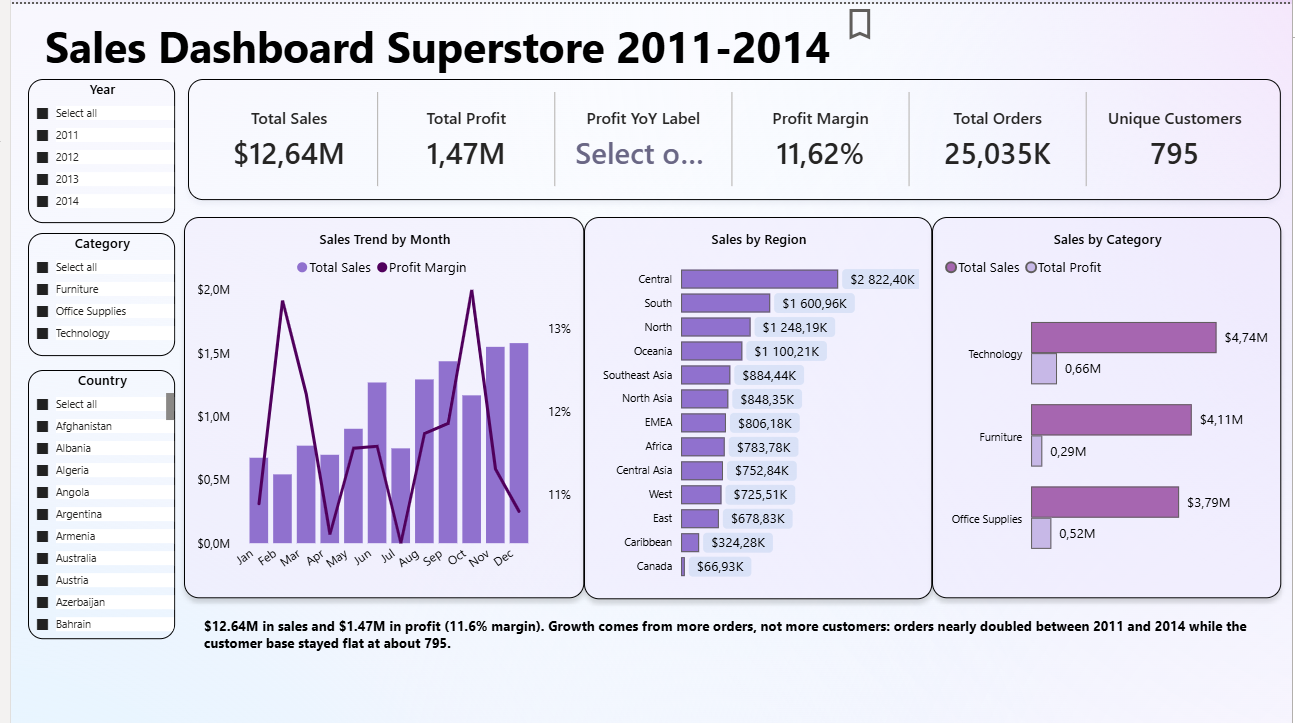

This screenshot's page, from the dashboard's own definition file:
{"tool":"powerbi","page":{"name":"KPI&Trend","canvas":[1280,720],"ordinal":0},"visuals":[{"type":"actionButton","box":[0,0,100,40],"z":0},{"type":"cardVisual","fields":{"Data":["SuperStoreOrders.Total Sales","SuperStoreOrders.Total Profit","SuperStoreOrders.Total Orders","SuperStoreOrders.Profit Margin"]},"box":[0,45.2,1079.6,117.9],"z":1000},{"type":"cardVisual","fields":{"Data":["SuperStoreOrders.Total Profit"]},"box":[606,167.3,192.6,105],"z":2000},{"type":"lineChart","title":"Monthly Sales Trend","fields":{"Y":["Sum(SuperStoreOrders.sales_number)"],"Category":["SuperStoreOrders.order_date.Варіація.Ієрархія дат.Місяць"]},"box":[4.9,163.4,1275.1,230.5],"z":4000},{"type":"slicer","title":"Country","fields":{"Values":["SuperStoreOrders.country"]},"box":[1102,426,175.1,70],"z":5000},{"type":"slicer","title":"Order Date","fields":{"Values":["SuperStoreOrders.order_date"]},"box":[1084.5,52.5,189.7,100.2],"z":6000},{"type":"textbox","box":[0,0,631.2,48.6],"z":7000},{"type":"donutChart","title":"Total  Sales by Category","fields":{"Category":["SuperStoreOrders.category"],"Y":["Sum(SuperStoreOrders.sales_number)"]},"box":[0,397.8,530.1,321.9],"z":8000},{"type":"clusteredBarChart","title":"Total Sales by Sub_category","fields":{"Category":["SuperStoreOrders.sub_category"],"Y":["Sum(SuperStoreOrders.sales_number)"]},"box":[546.6,397.8,527.2,321.9],"z":9000},{"type":"slicer","title":"Category","fields":{"Values":["SuperStoreOrders.category"]},"box":[1102,523.3,155.6,119.6],"z":10000},{"type":"actionButton","box":[640,3.9,100.2,39.9],"z":13000}]}

Visuals, with their boxes in screenshot pixels (x1, y1, x2, y2), scaled from the page's 1280x720 canvas onto the 1295x723 screenshot:
actionButton: (0,0,101,40)
cardVisual - SuperStoreOrders.Total Sales x SuperStoreOrders.Total Profit: (0,45,1092,164)
cardVisual - SuperStoreOrders.Total Profit: (613,168,808,273)
"Monthly Sales Trend" lineChart: (5,164,1294,396)
"Country" slicer: (1115,428,1292,498)
"Order Date" slicer: (1097,53,1289,153)
textbox: (0,0,639,49)
"Total  Sales by Category" donutChart: (0,399,536,722)
"Total Sales by Sub_category" clusteredBarChart: (553,399,1086,722)
"Category" slicer: (1115,525,1272,646)
actionButton: (648,4,749,44)
